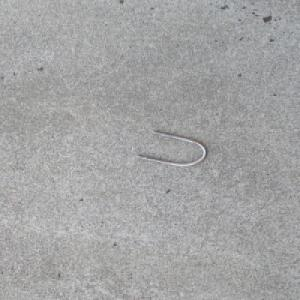ClampPart: (134, 129, 211, 167)
